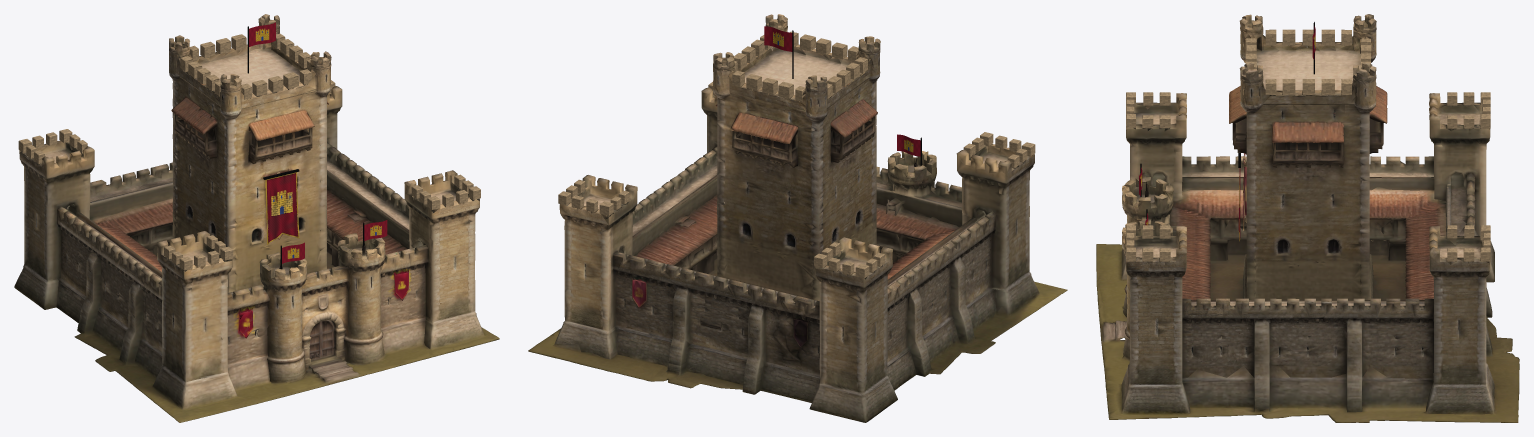
Rendered from SM_Fortaleza_Castilla_Castilla3.fbx.
3 renders of one model, left to right at view 1: azimuth 30°, elevation 25°; view 2: azimuth 150°, elevation 25°; view 3: azimuth 270°, elevation 25°, orthographic. The views are drawn at different scales.
Visible parts, largest first — view 1: Fortaleza_Castilla_Castilla3; view 2: Fortaleza_Castilla_Castilla3; view 3: Fortaleza_Castilla_Castilla3.
Boxes of the visible parts, x1,y1,x2,y2 form: Fortaleza_Castilla_Castilla3: [14, 14, 499, 422]; Fortaleza_Castilla_Castilla3: [528, 14, 1067, 422]; Fortaleza_Castilla_Castilla3: [1096, 14, 1519, 422].
Bounding box in the file's own units: 98.27 × 80.4 × 98.42.
